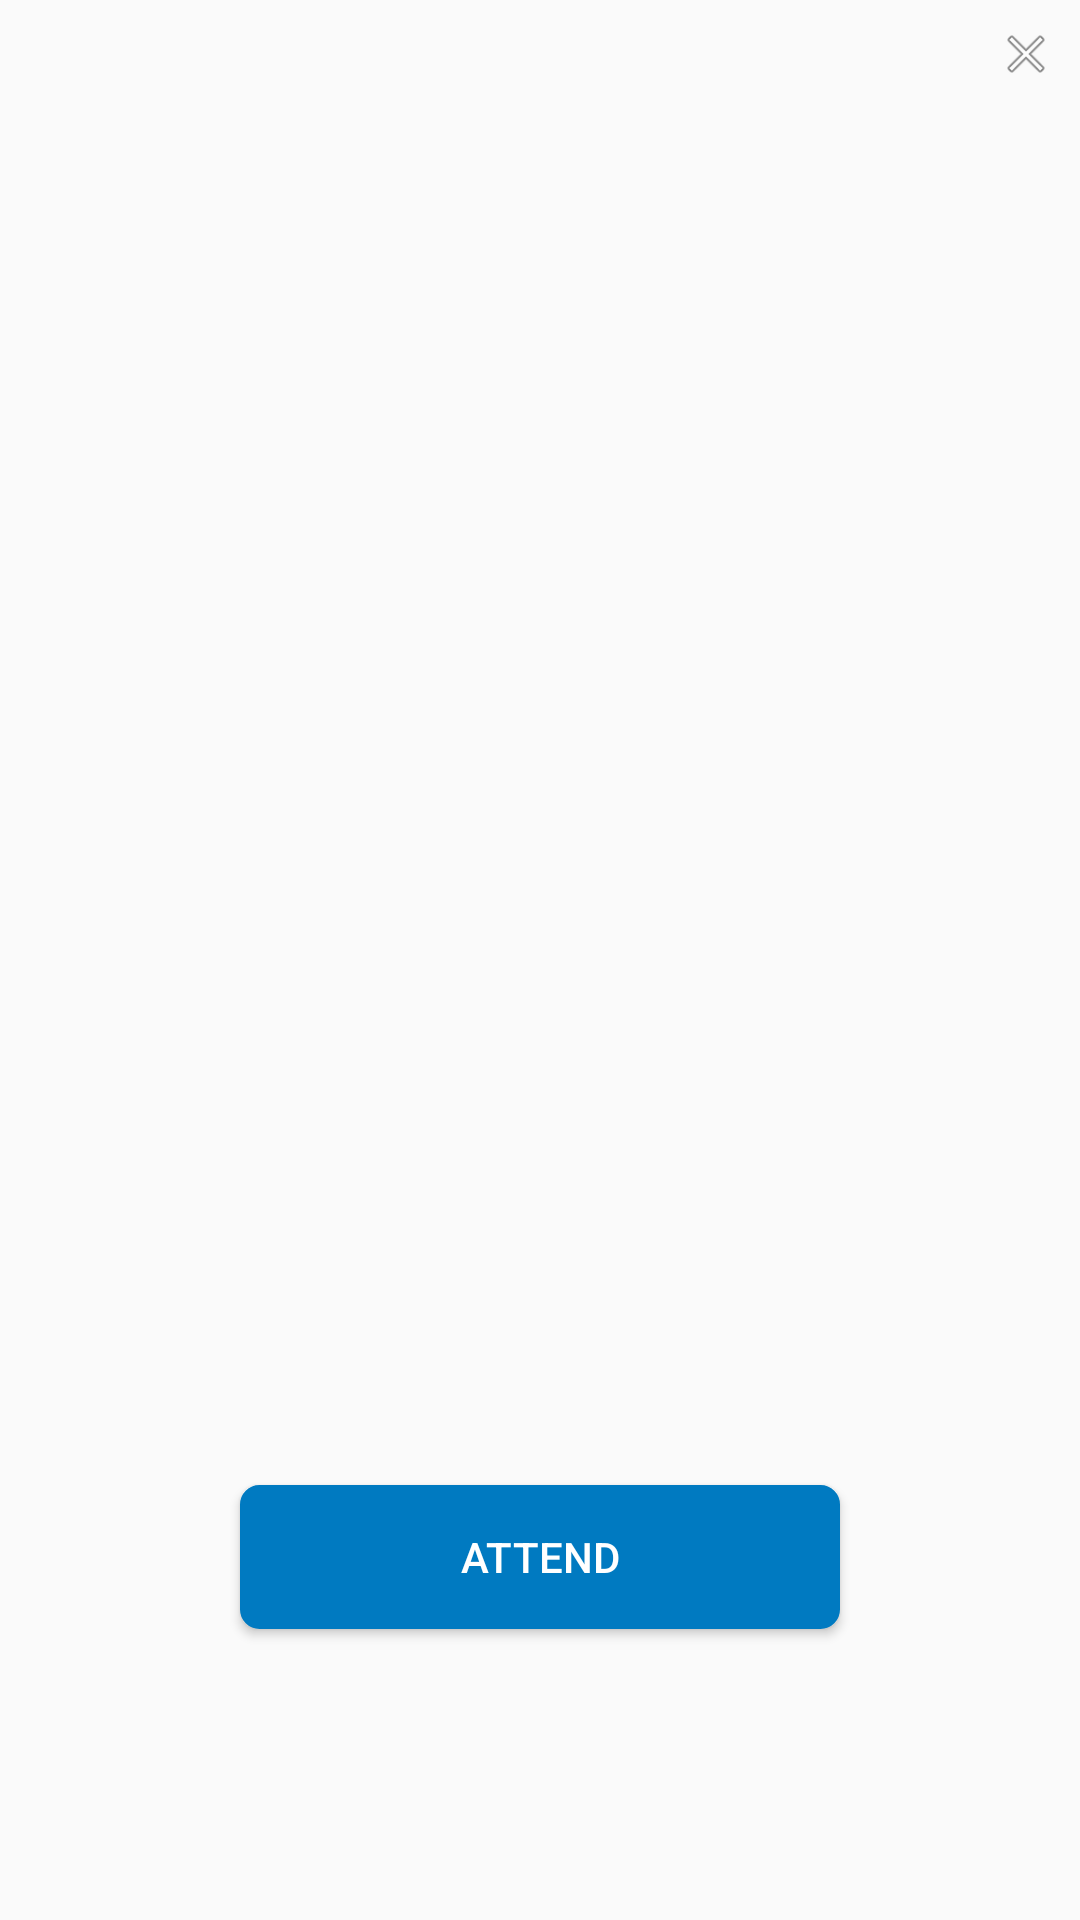

Point at icon controls on the screen. Image size 1080px×1920px, points as [x,y].
close clear cancel: [1026,54]
